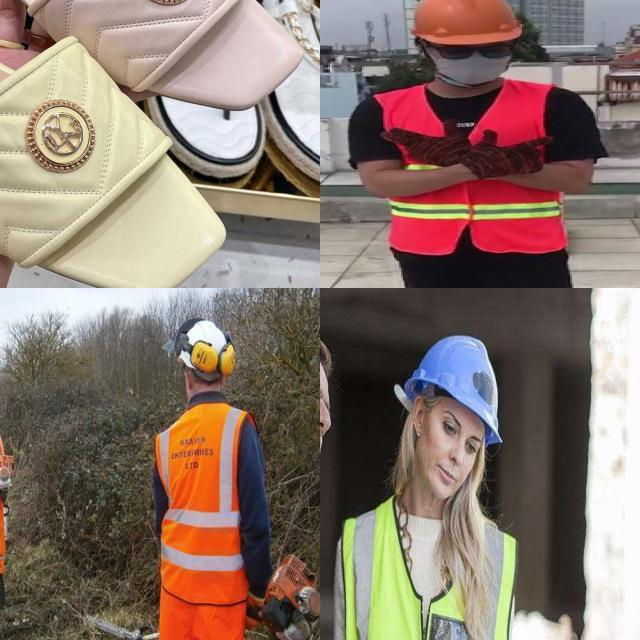No_Ear-Protection: (410, 392, 430, 443)
No_Glasses: (436, 406, 480, 461)
Sandals: (0, 0, 237, 288), (0, 0, 305, 118)
face_nomask: (419, 397, 486, 501), (320, 362, 334, 505)
glasses: (421, 39, 521, 63)
hand_glove: (472, 125, 549, 178), (382, 123, 468, 166)
head_helmet: (406, 334, 504, 447), (404, 0, 529, 46), (173, 319, 236, 378)
person: (320, 0, 640, 288), (332, 326, 553, 640), (149, 318, 272, 640), (0, 367, 15, 610)
shoes: (0, 572, 6, 609)
vest: (367, 81, 570, 256), (343, 499, 518, 640), (154, 404, 253, 602)
